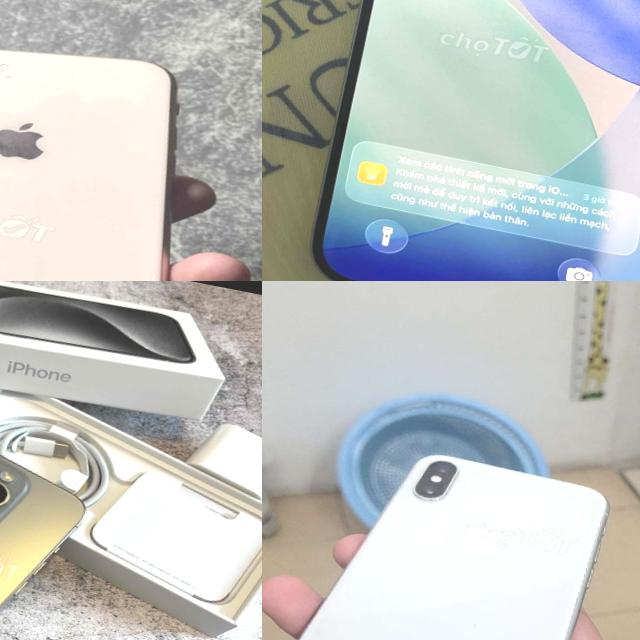gen_15: (286, 0, 640, 281), (0, 402, 98, 640)
gen_7_8: (0, 2, 262, 281)
gen_x_xs: (299, 455, 608, 640)
scratch: (0, 121, 45, 161), (4, 70, 18, 82)
